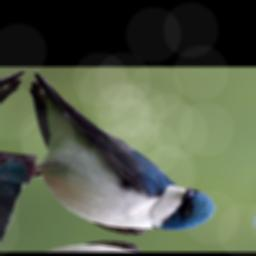Swallow: (0, 71, 256, 246)
